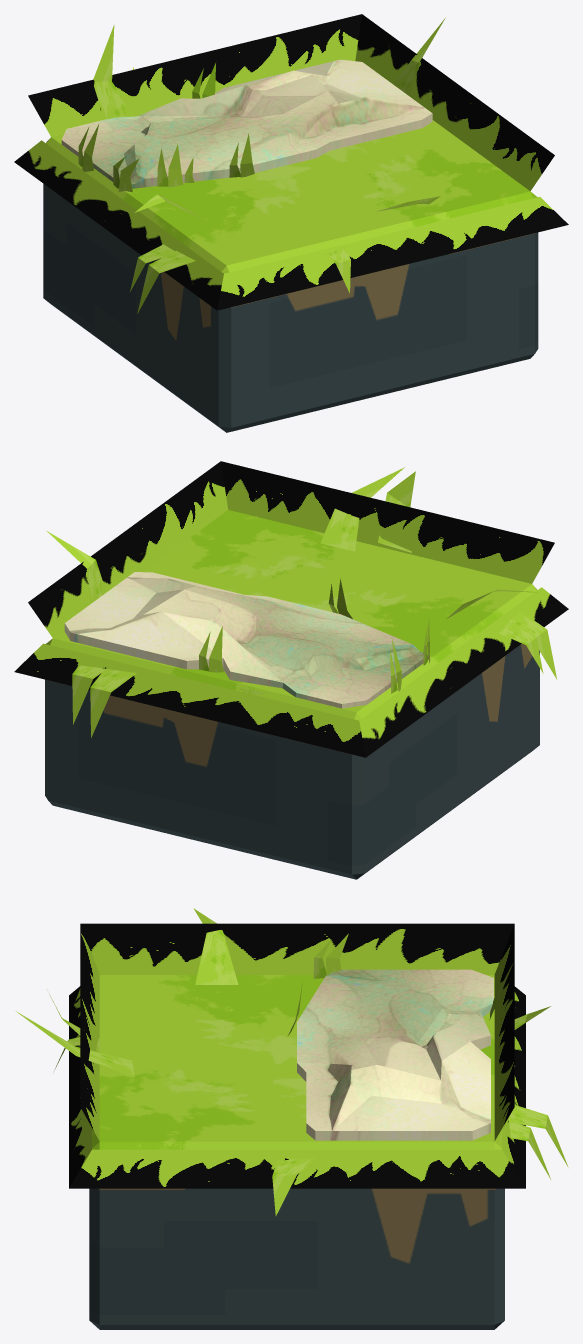
The model's file is tilegrass002.glb.
The picture shows the model from 3 angles, top to bottom: view 1: azimuth 30°, elevation 25°; view 2: azimuth 150°, elevation 25°; view 3: azimuth 270°, elevation 25°; orthographic projection. The views are drawn at different scales.
Visible parts, largest first — view 1: tile_grass_02; view 2: tile_grass_02; view 3: tile_grass_02.
Boxes of the visible parts, x1,y1,x2,y2 form: tile_grass_02: (14, 14, 568, 432); tile_grass_02: (14, 461, 568, 879); tile_grass_02: (16, 908, 568, 1329).
Size of the model in its own units: 1.29 by 0.7481 by 1.34.
2 materials, 2 textured.
